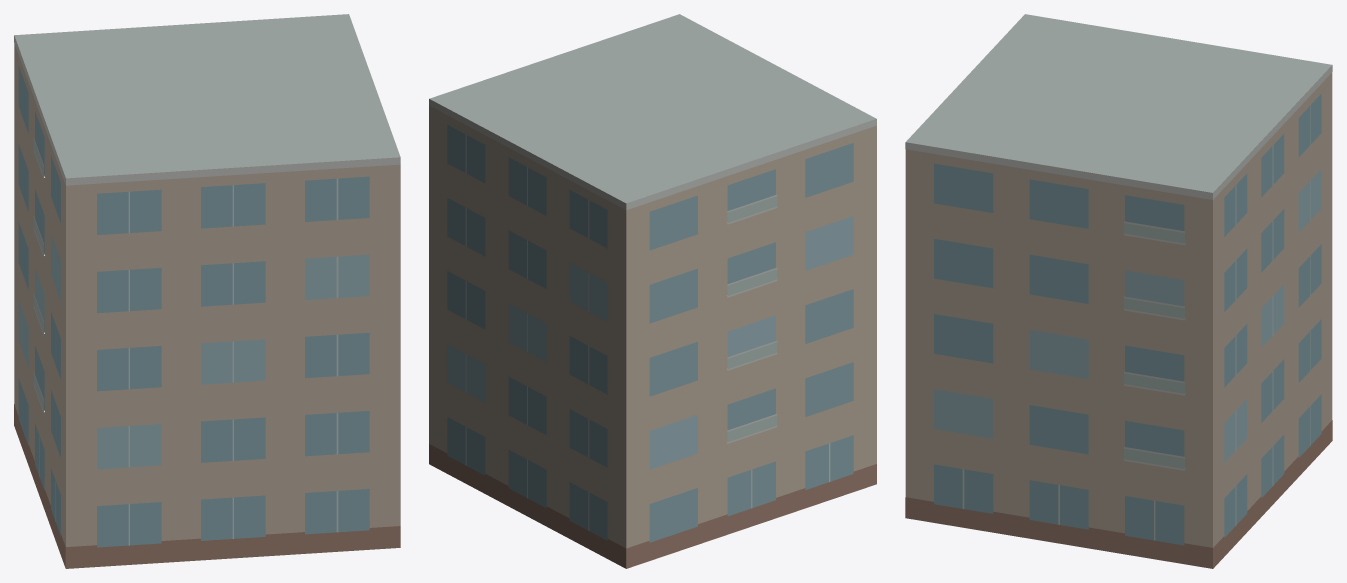
Rendered from survey-upis-32880899.glb.
3 views of the same model, side by side, from view 1: azimuth 30°, elevation 25°; view 2: azimuth 150°, elevation 25°; view 3: azimuth 270°, elevation 25° (orthographic). The views are drawn at different scales.
Visible parts, largest first — view 1: survey-upis-32880899.tmp; view 2: survey-upis-32880899.tmp; view 3: survey-upis-32880899.tmp.
Part boxes in pixels (<box>): survey-upis-32880899.tmp: <box>14,14,400,568</box>; survey-upis-32880899.tmp: <box>429,14,876,568</box>; survey-upis-32880899.tmp: <box>905,14,1332,568</box>.
Bounding box in the file's own units: 13.38 × 13.1 × 13.5.
